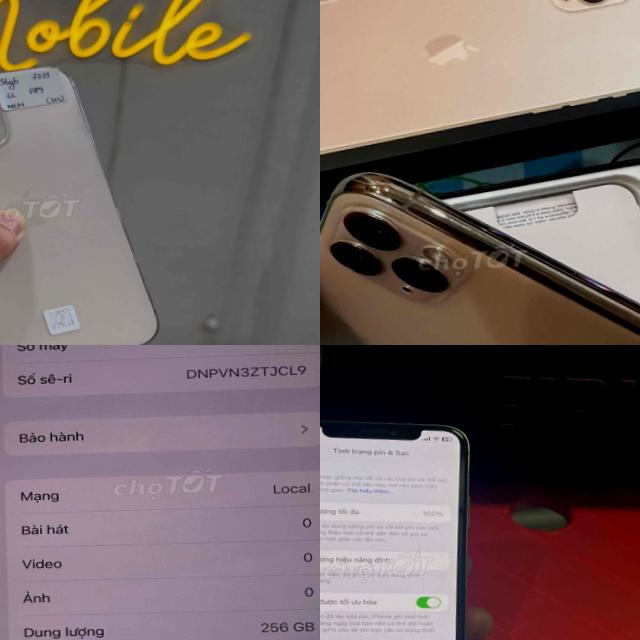gen_11: (320, 150, 640, 345)
gen_16: (0, 57, 181, 345)
gen_x_xs: (0, 345, 320, 640), (320, 401, 474, 640)
